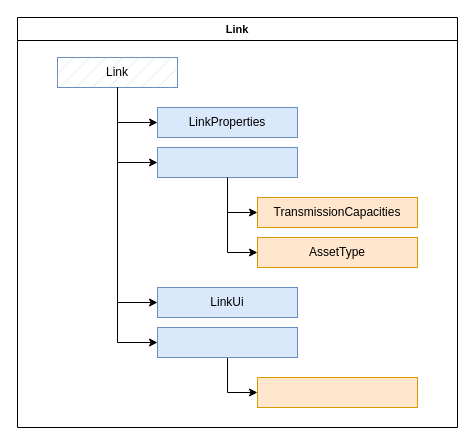
This 475x445 diagram has some shape labels left out. The shapes that lost their labels are listed below. From the top down, each one's box as (x1, y1, x2, y2) in pixels, then its label:
(156, 146, 298, 178): LinkPropertiesUpdate
(156, 326, 298, 358): LinkUiUpdate
(256, 376, 418, 408): LinkStyle
